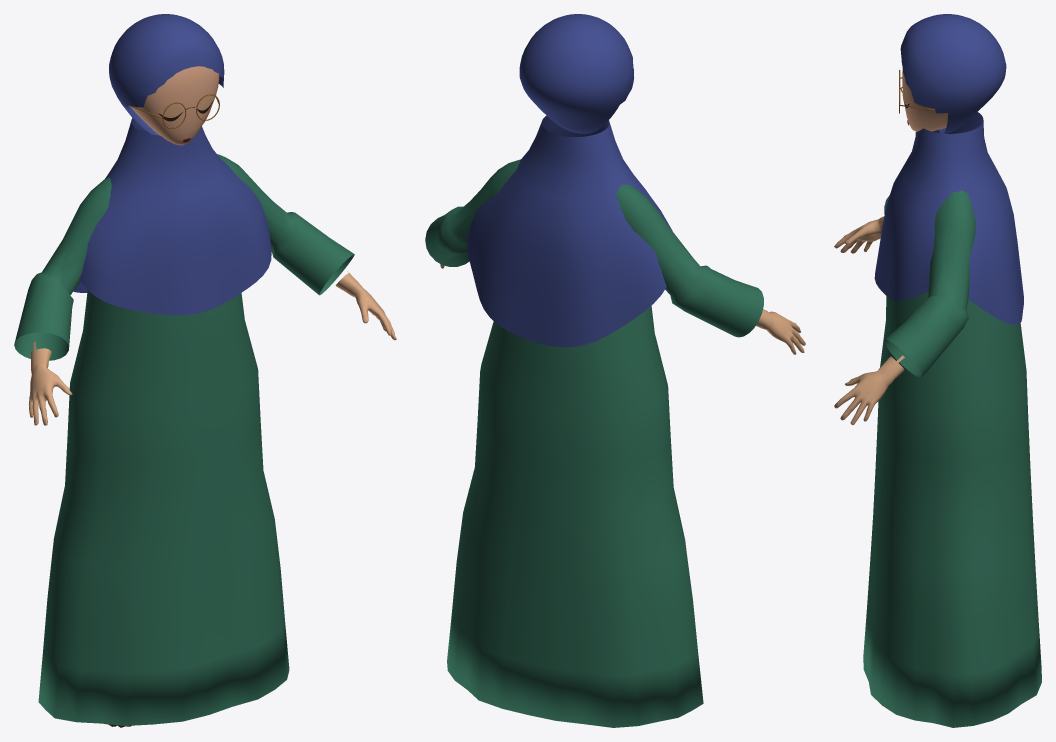
File: grandma.fbx
The picture shows the model from 3 angles, left to right: view 1: azimuth 30°, elevation 25°; view 2: azimuth 150°, elevation 25°; view 3: azimuth 270°, elevation 25°; orthographic projection. The views are drawn at different scales.
Parts seen in each view (by area): view 1: grandma_mixamo; view 2: grandma_mixamo; view 3: grandma_mixamo.
Part boxes in pixels (bbox=[...]): grandma_mixamo: bbox=[14, 14, 396, 727]; grandma_mixamo: bbox=[425, 14, 805, 727]; grandma_mixamo: bbox=[834, 14, 1041, 727].
Size of the model in its own units: 0.8988 by 1.6 by 0.4576.
